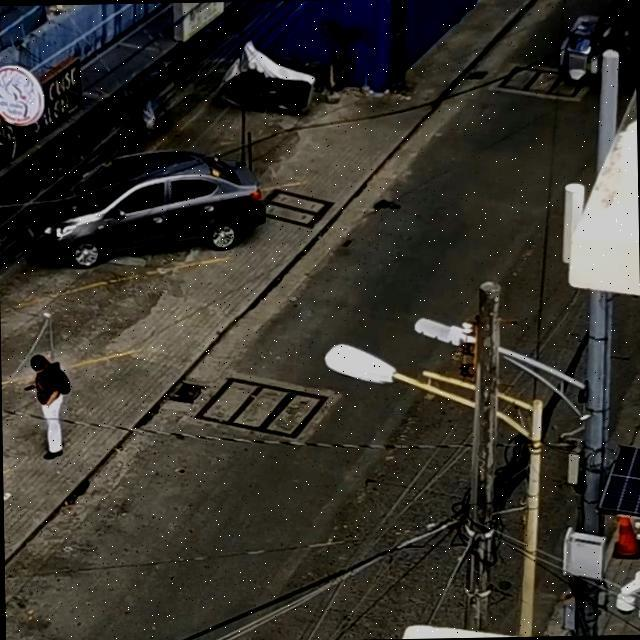Tricycle: (548, 0, 636, 96)
